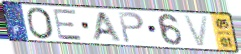6: (156, 12, 184, 48)
A: (91, 11, 123, 42)
E: (51, 9, 84, 42)
O: (25, 6, 56, 41)
P: (117, 11, 146, 45)
V: (181, 14, 211, 49)
